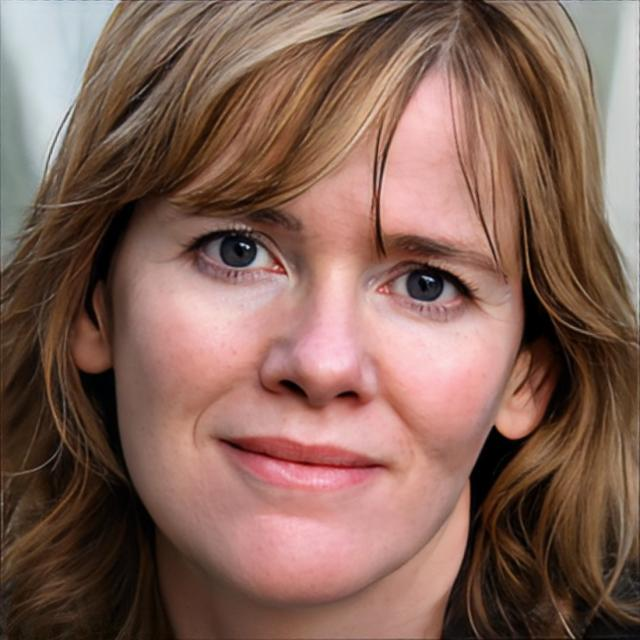content: (109, 63, 526, 607)
